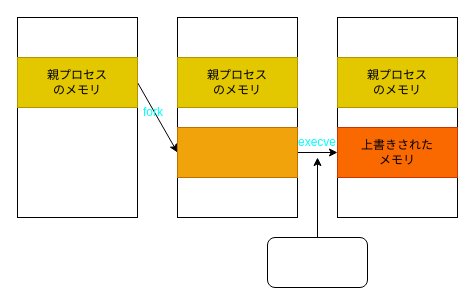
Image size: 475x305. Some labels were removed from this diagram. The shapes that lost their labels are listed below. From the top down, each one's centre as x and y in pixels, then its label:
At [237,152]: "子プロセス のメモリ".
At [317,262]: "実行ファイル".
